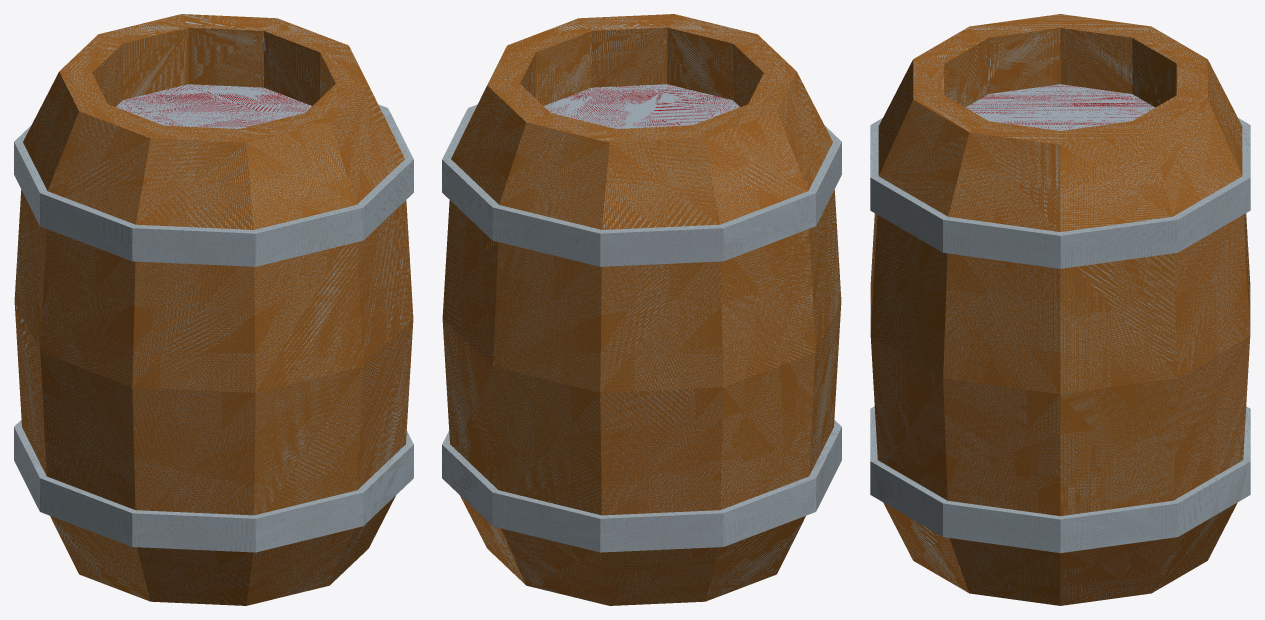
File: Barrel_Wine_01.fbx
The picture shows the model from 3 angles, left to right: view 1: azimuth 30°, elevation 25°; view 2: azimuth 150°, elevation 25°; view 3: azimuth 270°, elevation 25°; orthographic projection.
Parts seen in each view (by area): view 1: Model; view 2: Model; view 3: Model.
Part boxes in pixels (x1,y1,x2,y2): Model: (14, 14, 413, 605); Model: (442, 14, 841, 605); Model: (870, 14, 1250, 605).
Bounding box in the file's own units: 158 × 200 × 150.
